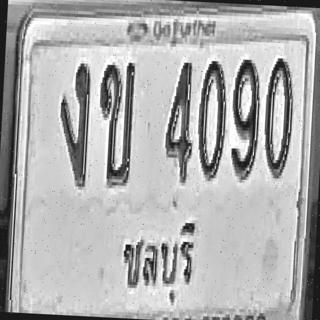A02: (96, 58, 136, 186)
A07: (56, 59, 92, 187)
N00: (262, 55, 295, 179), (196, 58, 228, 179)
N04: (163, 59, 196, 183)
N09: (229, 58, 262, 179)
P13: (117, 212, 197, 310)
